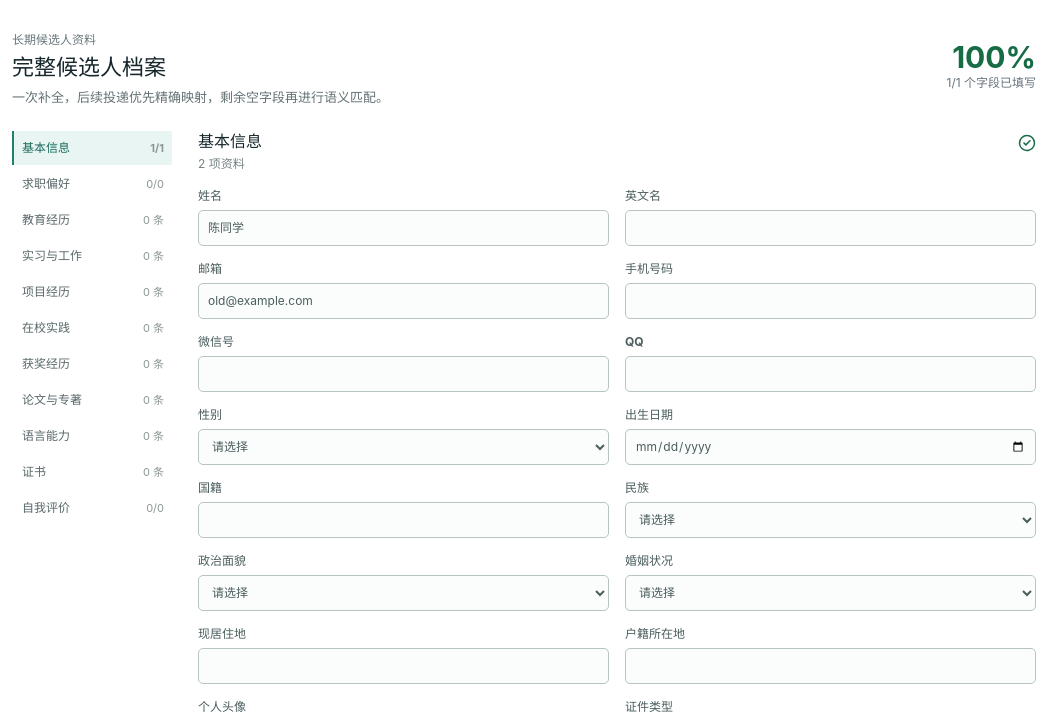
Test: CandidateProfileCenter › retries only fields that failed during a partially successful save
This screenshot has width=1048, height=721.
Replace the text in the field labelled "姓名" with "陈晨": {"x": 404, "y": 228} [198,210,609,246]
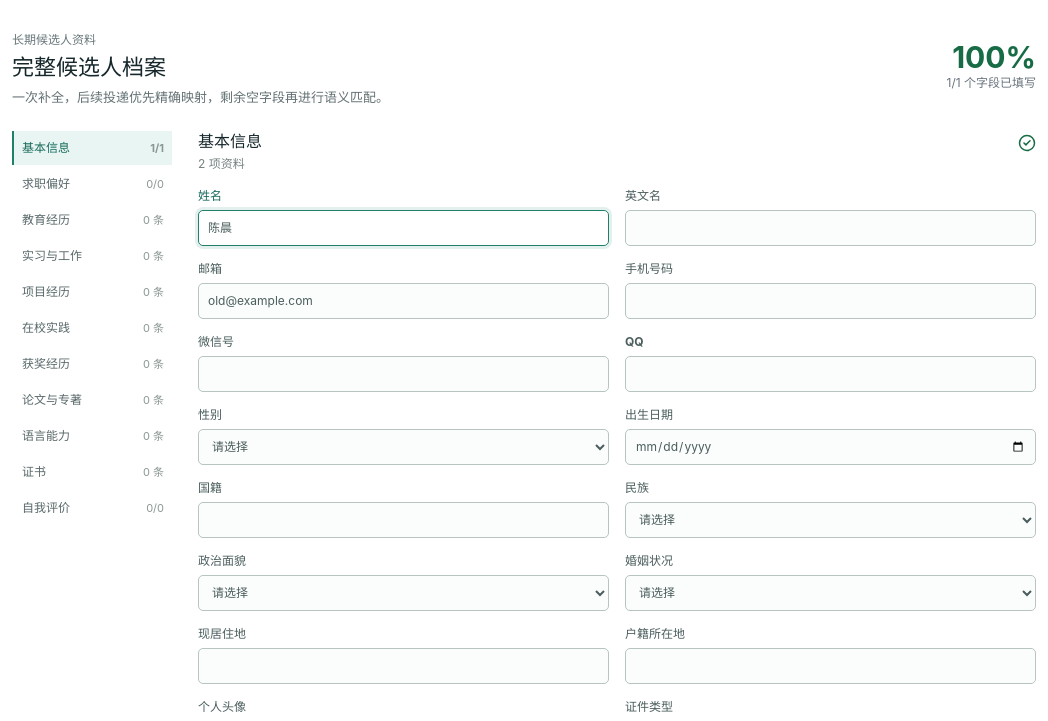
Replace the text in the field labelled "邮箱" with "chen@example.com": {"x": 404, "y": 301} [198,283,609,319]
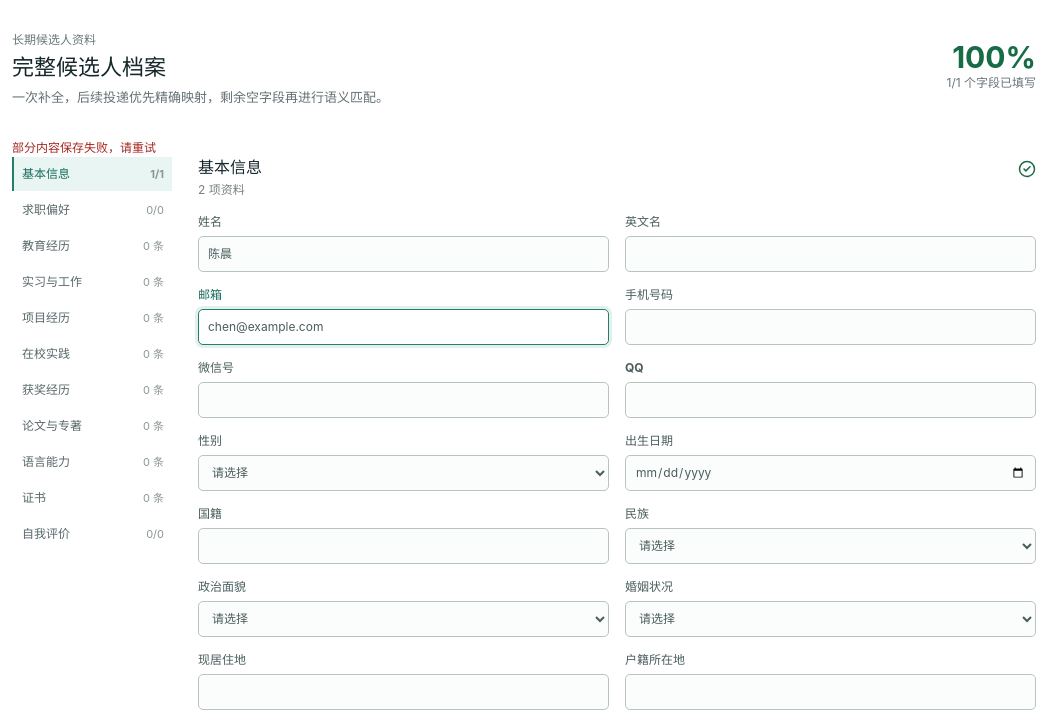
Expected: the message reads "部分内容保存失败，请重试", [12,140,156,155]
